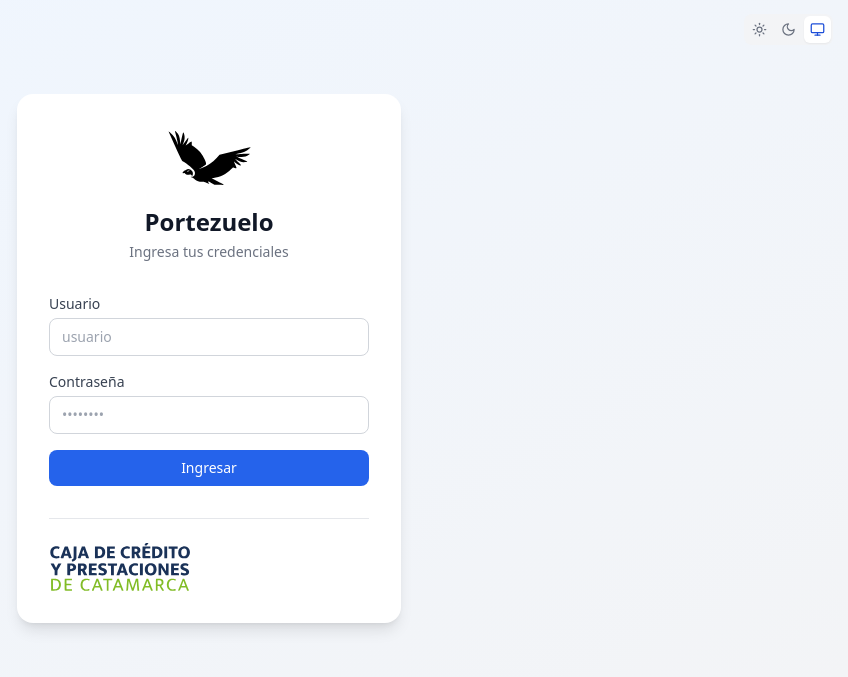
Test case: LoginPage › muestra el error de credenciales y no guarda sesión
Type "ana" into the field with placeholder "usuario". click: (209, 336)
box: [49,318,369,356]
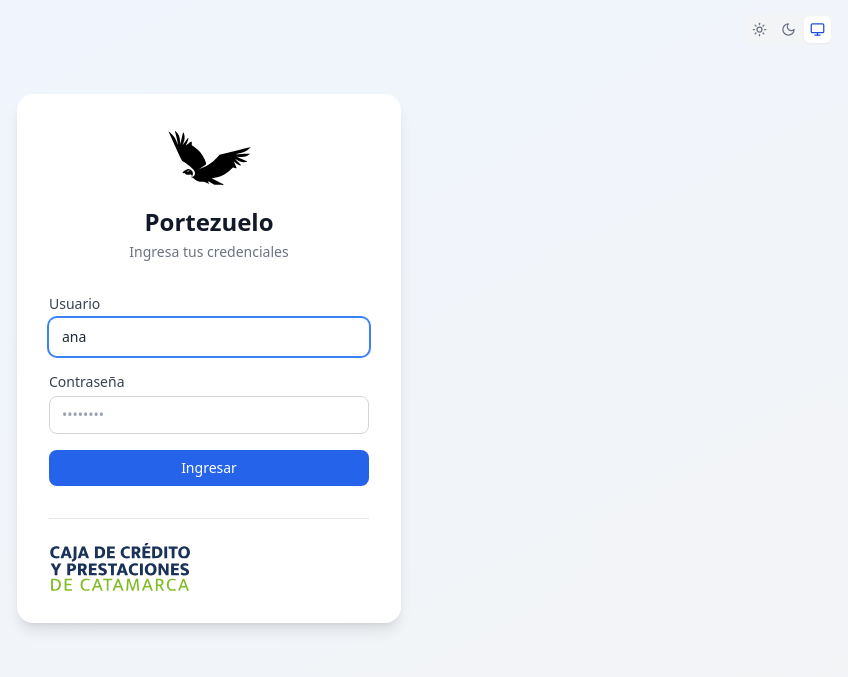
Type "secreta" into the password field with placeholder "••••••••". click: (209, 414)
box: [49,396,369,434]
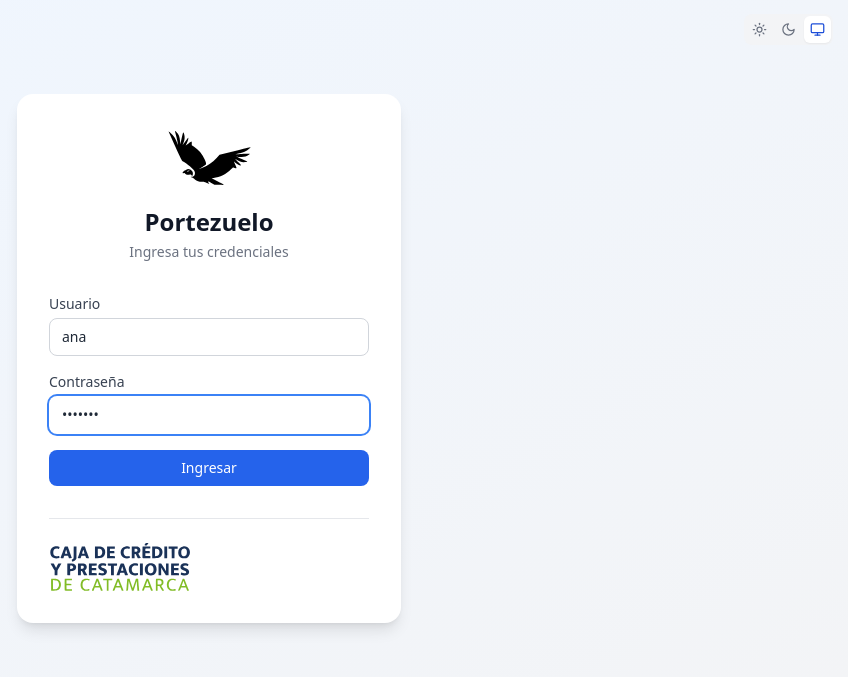
Click the button "Ingresar". click: (209, 468)
box: [49,450,369,486]
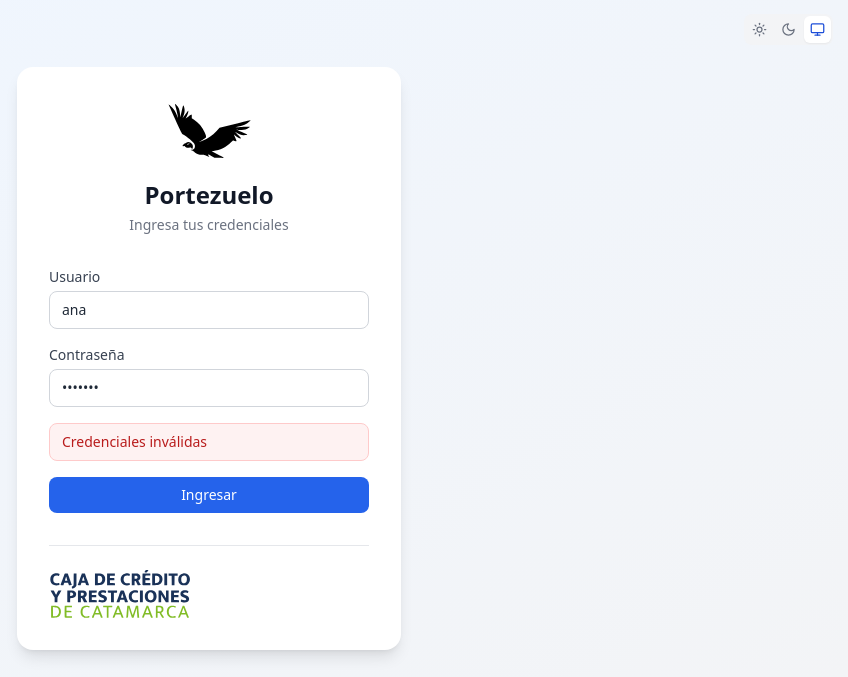
Expected: the text "Credenciales inválidas" is shown, [49,422,369,460]
